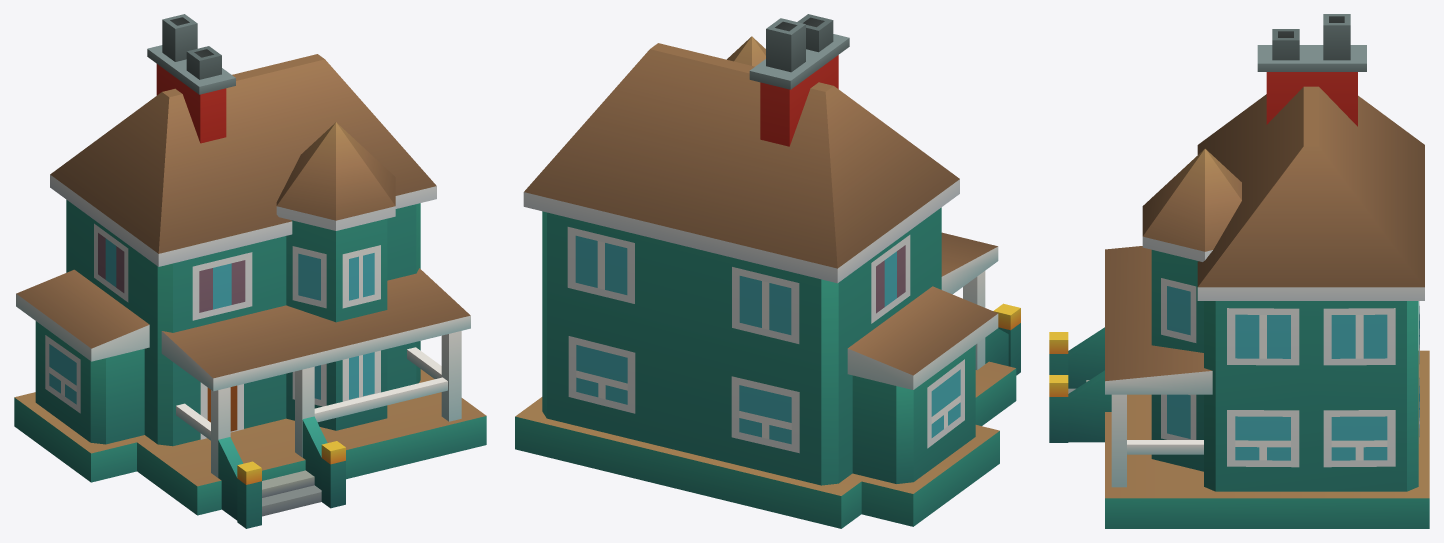
File: Building_cartoon_1.fbx
3 renders of one model, left to right at view 1: azimuth 30°, elevation 25°; view 2: azimuth 150°, elevation 25°; view 3: azimuth 270°, elevation 25°, orthographic. The views are drawn at different scales.
Parts seen in each view (by area): view 1: Building_cartoon_1; view 2: Building_cartoon_1; view 3: Building_cartoon_1.
Boxes of the visible parts, x1,y1,x2,y2 form: Building_cartoon_1: [14, 14, 486, 528]; Building_cartoon_1: [515, 14, 1020, 528]; Building_cartoon_1: [1049, 14, 1429, 528].
Size of the model in its own units: 1133 by 1260 by 1062.
